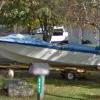Boat: (4, 21, 99, 94)
